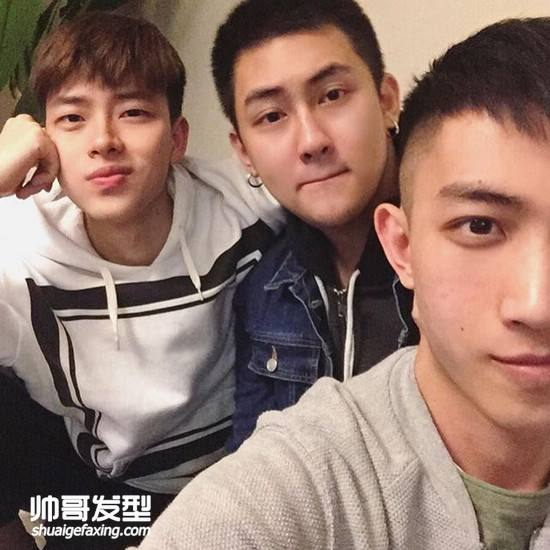person: (40, 38, 239, 369), (216, 17, 415, 254)
